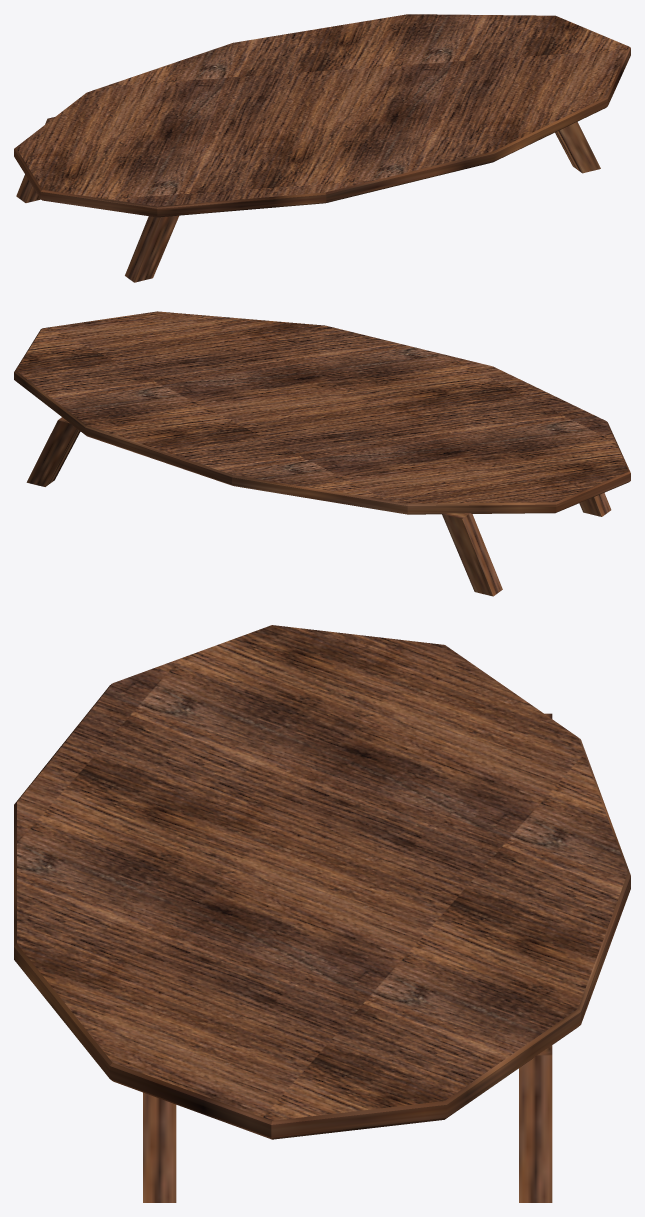
The model's file is mesa_sala.fbx.
3 renders of one model, top to bottom at view 1: azimuth 30°, elevation 25°; view 2: azimuth 150°, elevation 25°; view 3: azimuth 270°, elevation 25°, orthographic. The views are drawn at different scales.
Visible parts, largest first — view 1: Circle; view 2: Circle; view 3: Circle.
Boxes of the visible parts, <box> form: Circle: <box>14,14,630,282</box>; Circle: <box>14,311,630,596</box>; Circle: <box>14,625,630,1202</box>.
Bounding box in the file's own units: 375 × 48.07 × 196.
